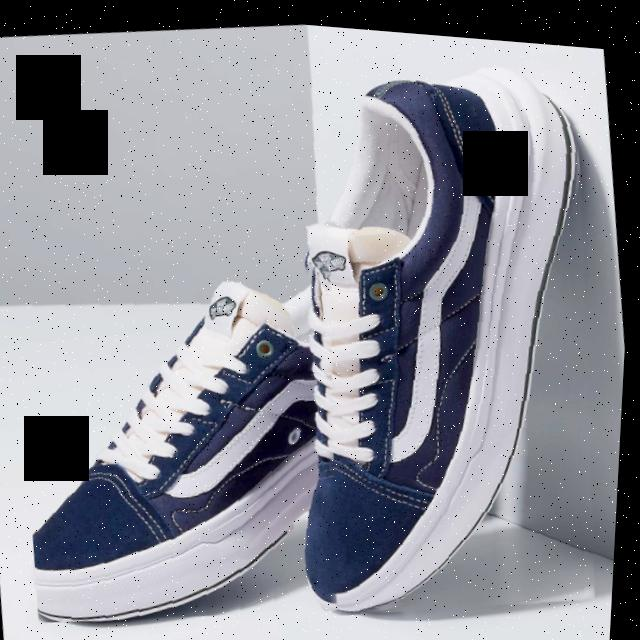shoe: (253, 34, 639, 630), (2, 230, 375, 640)
